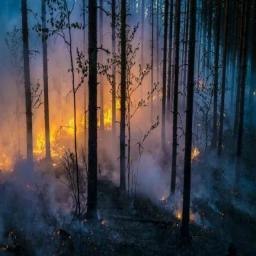Low smoke: (1, 0, 234, 236)
Small fire: (5, 66, 230, 187)
